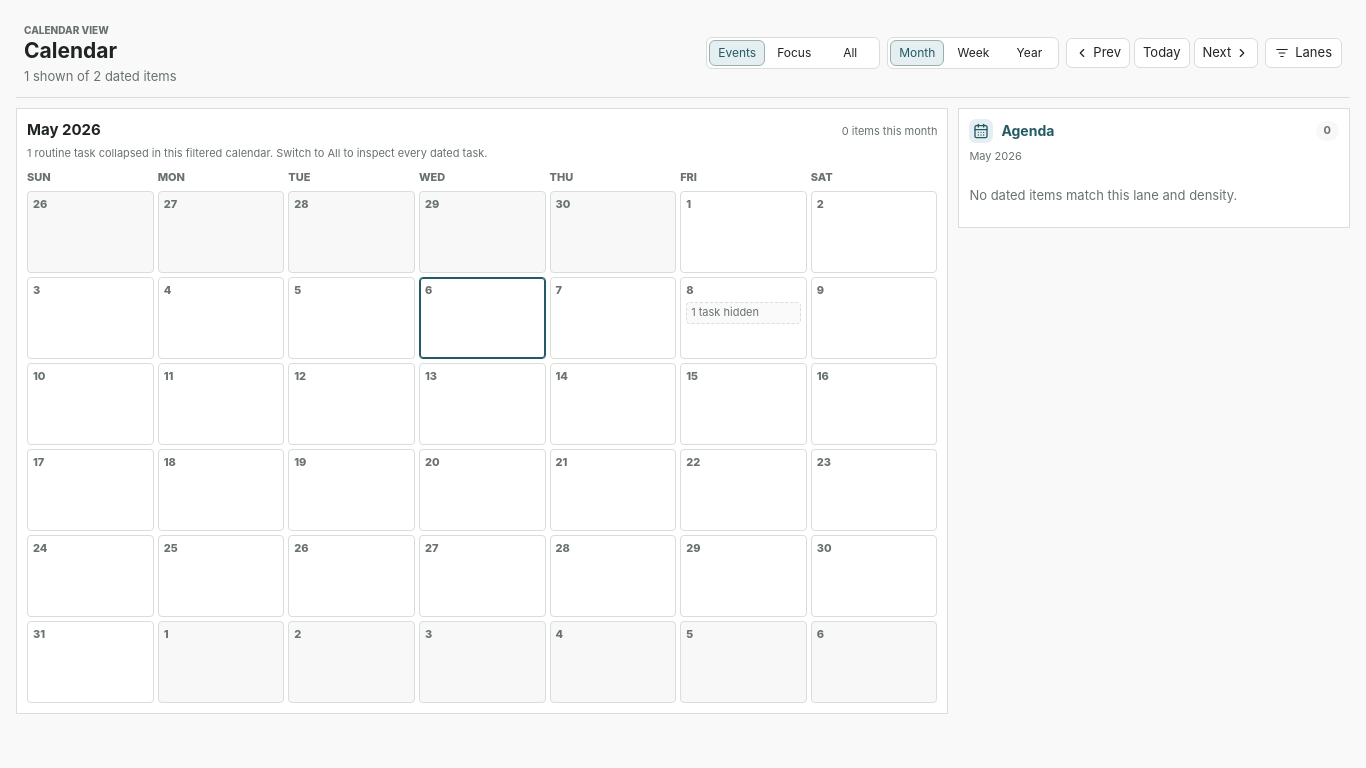
Test case: CalendarView › shows multi-day ranges in the calendar and deduped agenda
Click the button with aria-label "Next calendar range" at (1226, 52), box [1194,38,1258,68]
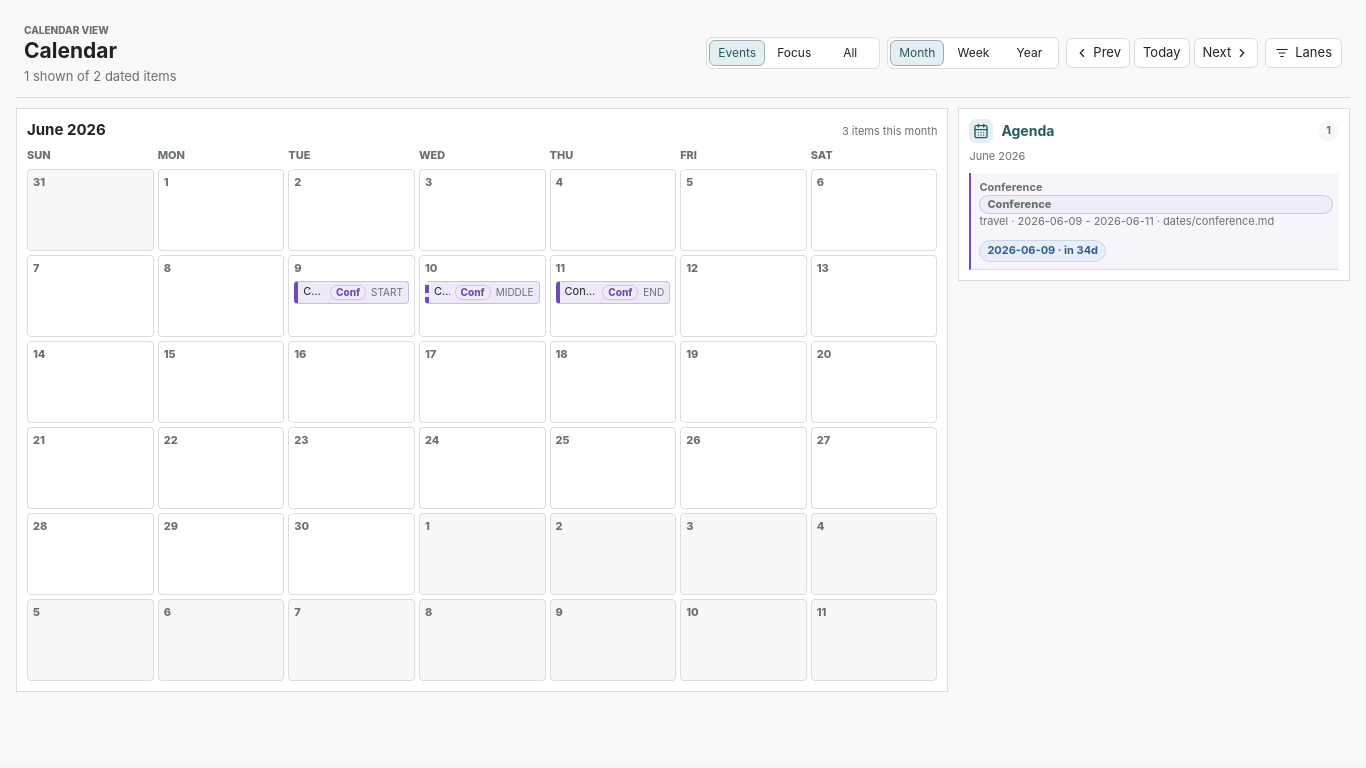
Expected: the 1st text "Conf" is shown, [330,285,366,300]
Expected: the 3rd text "Conference" is shown, [303,285,325,299]
Expected: the text "start" is shown, [371,286,403,299]
